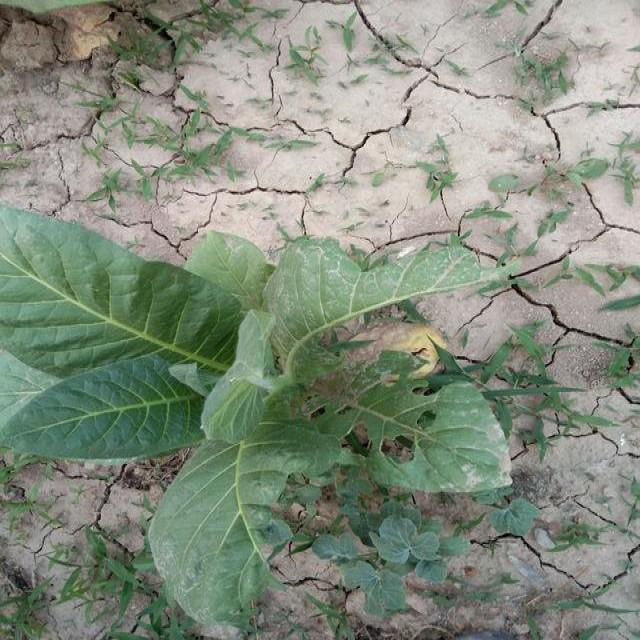crop: (6, 169, 513, 604)
